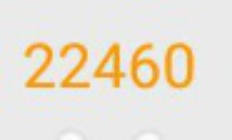TextView: (1, 1, 231, 139)
